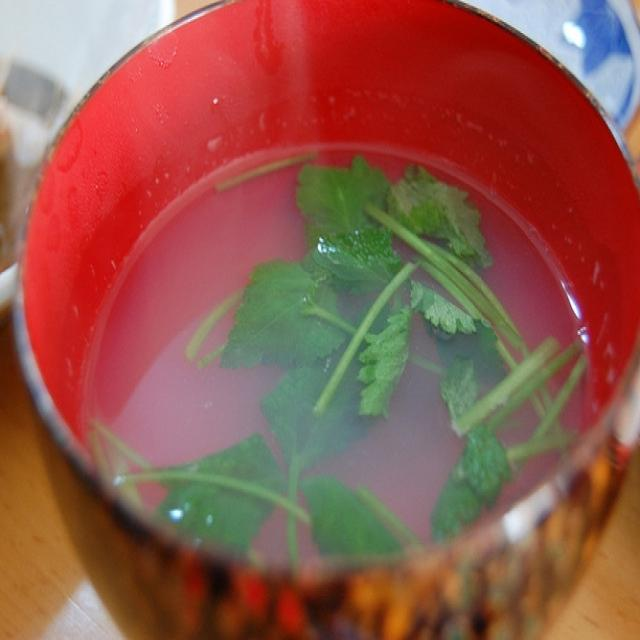汤锅炖物: (79, 108, 602, 596)
